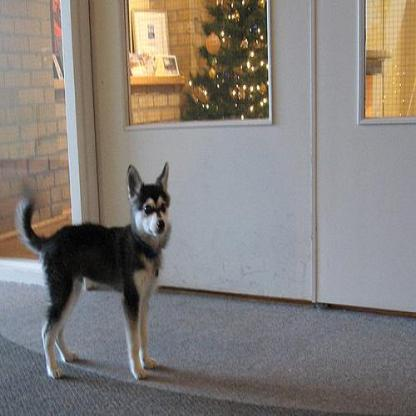Eskimo_dog: (14, 160, 170, 378)
